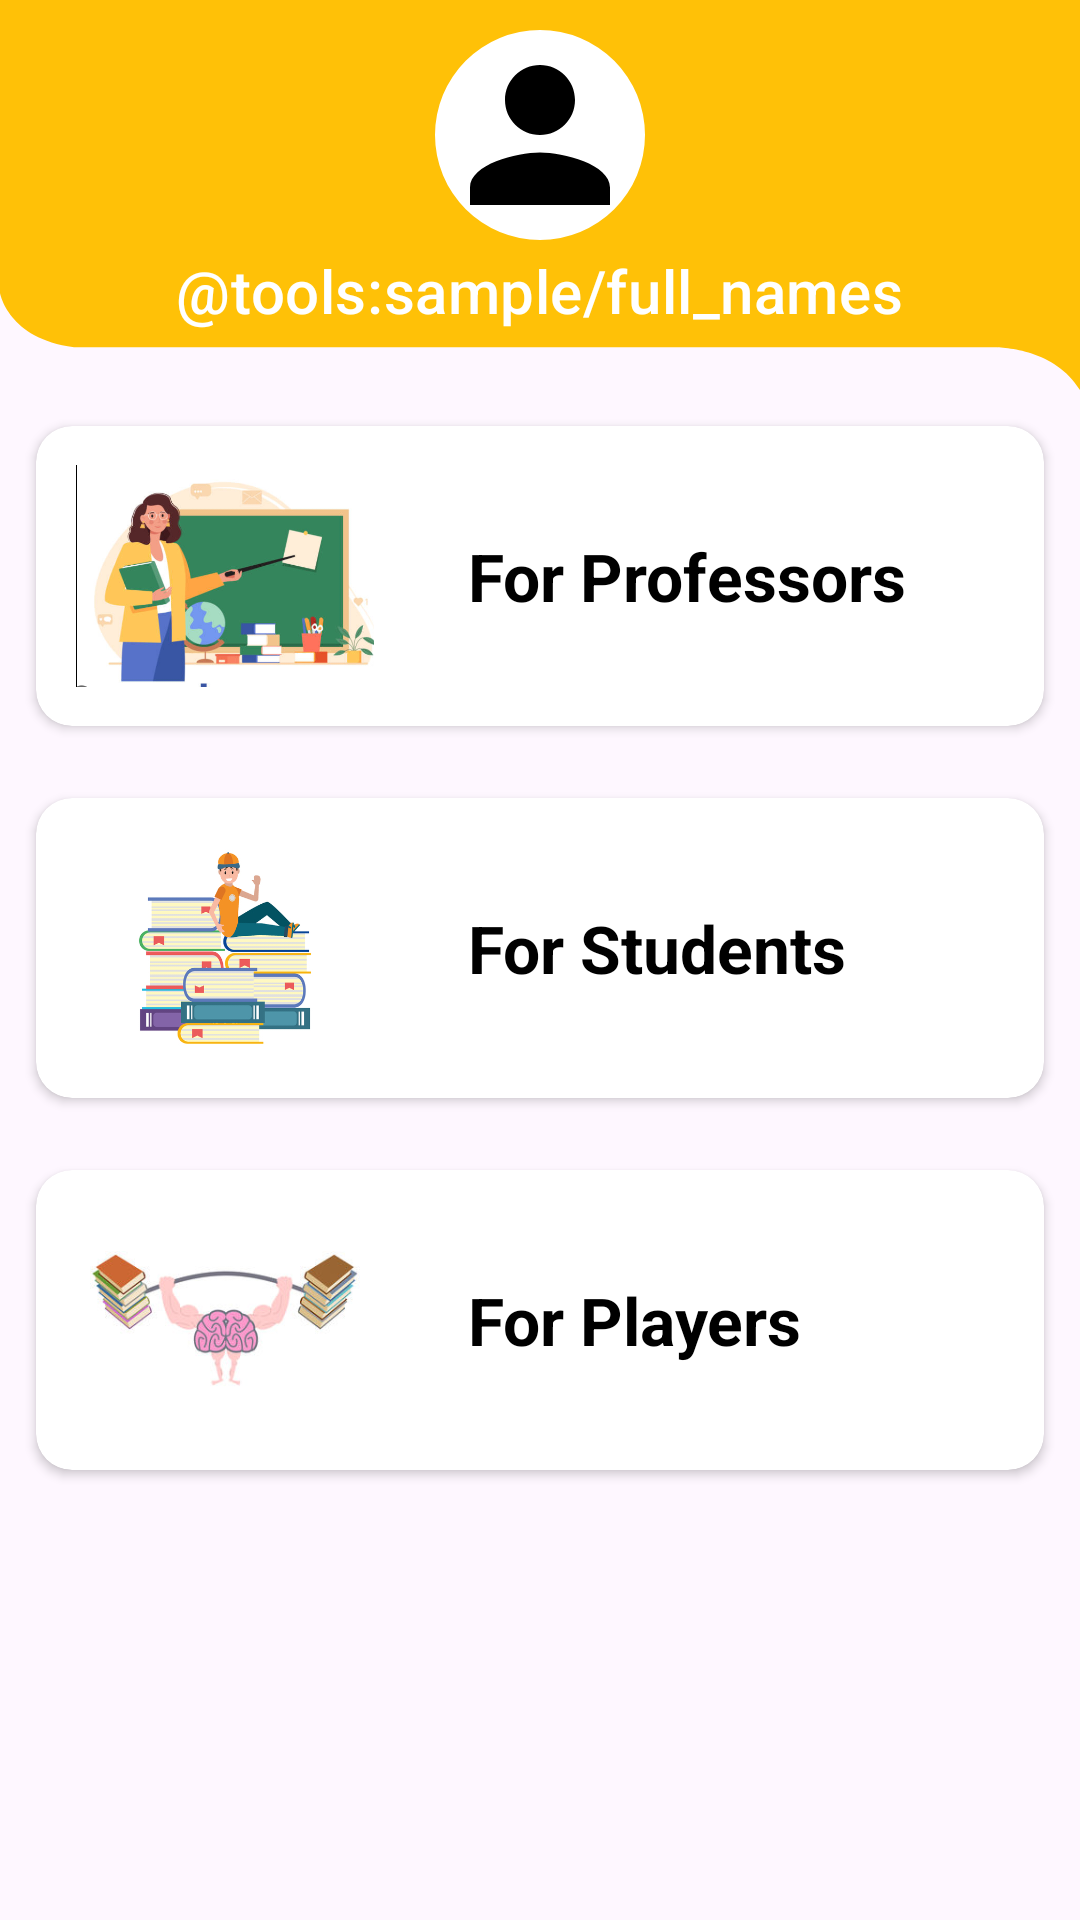

Where to tap for icons on this 1080px×1920px app screen, as (x,y):
person profile: (540,135)
